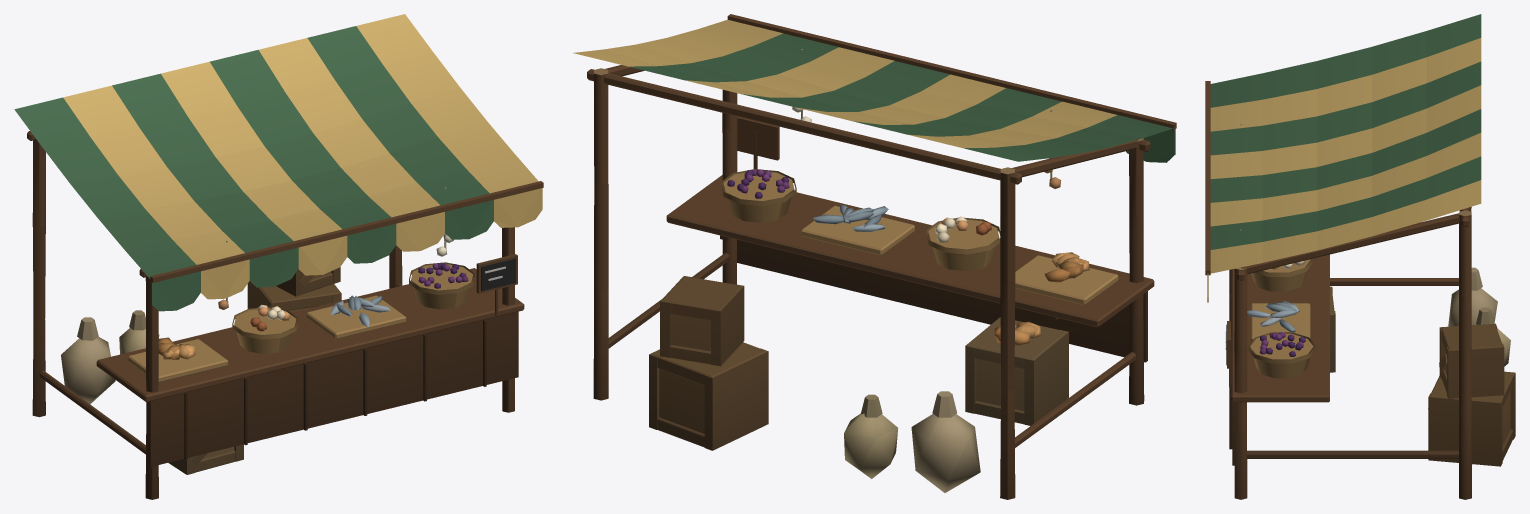
Rendered from village_stall_2.glb.
3 views of the same model, side by side, from view 1: azimuth 30°, elevation 25°; view 2: azimuth 150°, elevation 25°; view 3: azimuth 270°, elevation 25° (orthographic). The views are drawn at different scales.
Parts seen in each view (by area): view 1: VillageStall_2; view 2: VillageStall_2; view 3: VillageStall_2.
Boxes of the visible parts, x1,y1,x2,y2 form: VillageStall_2: [14, 14, 543, 499]; VillageStall_2: [573, 14, 1176, 499]; VillageStall_2: [1205, 14, 1515, 499].
Size of the model in its own units: 3.4 by 2.58 by 2.35.
